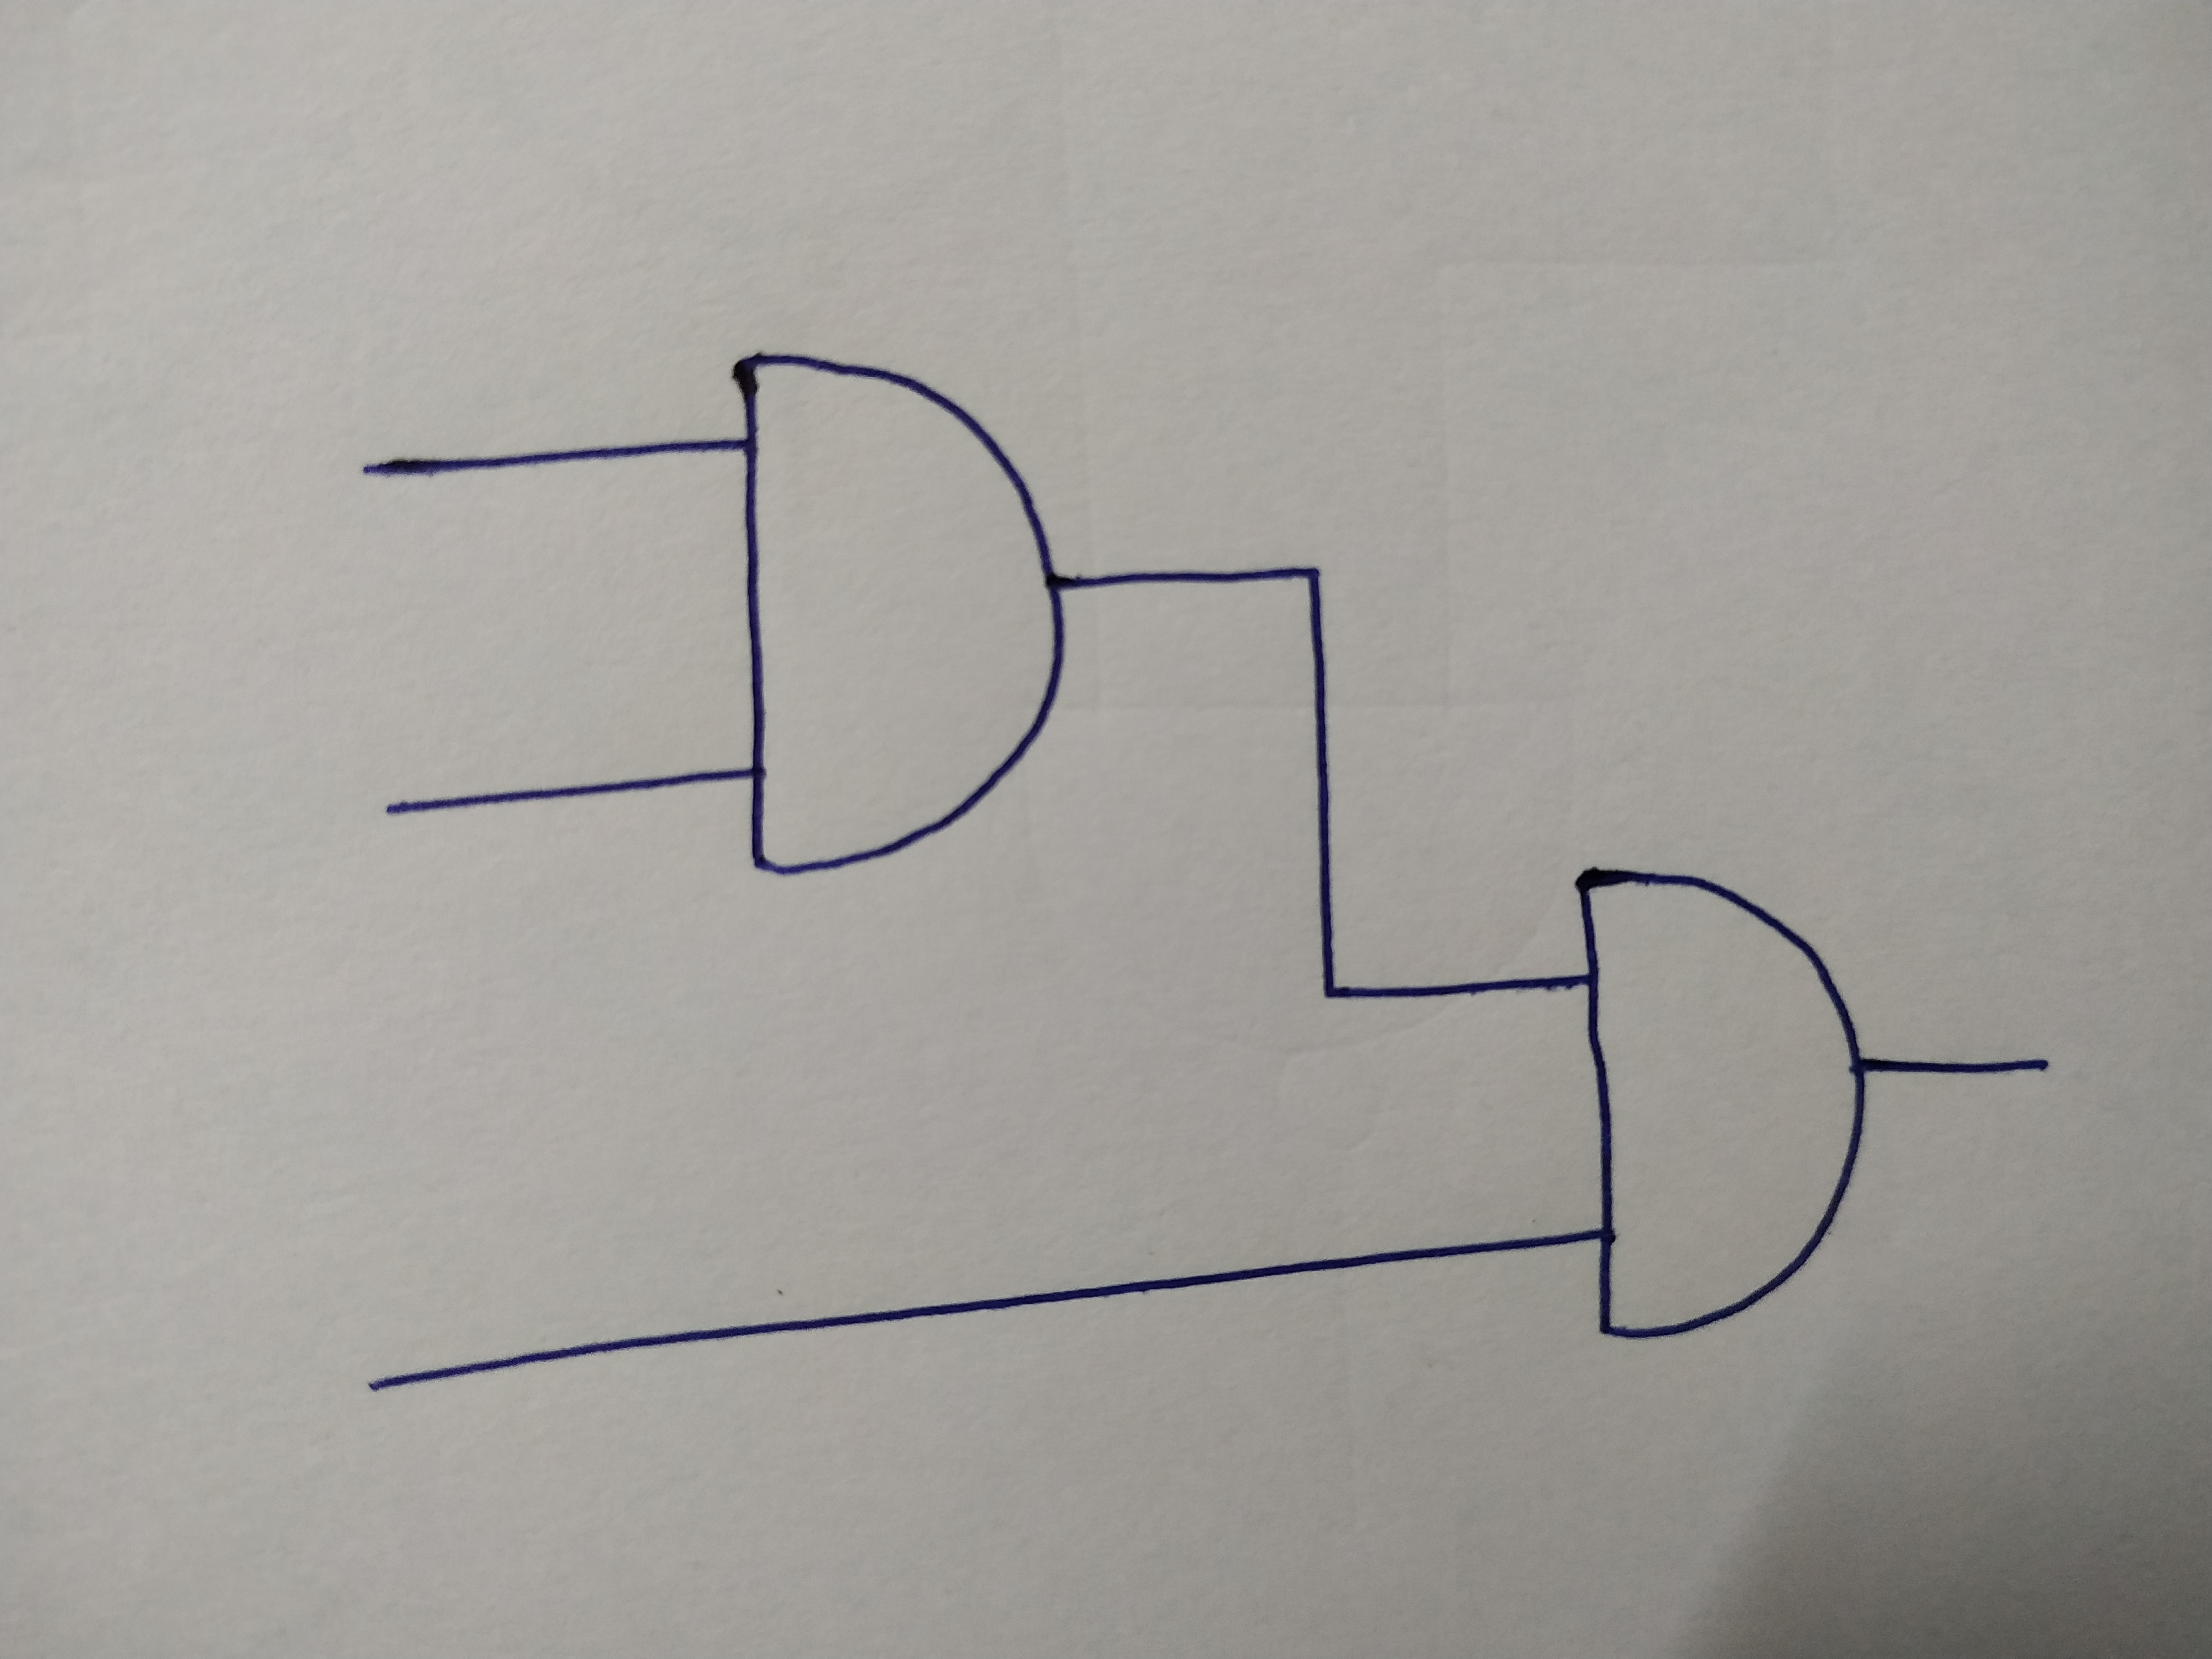and: (732, 356, 1062, 880), (1575, 871, 1867, 1340)
